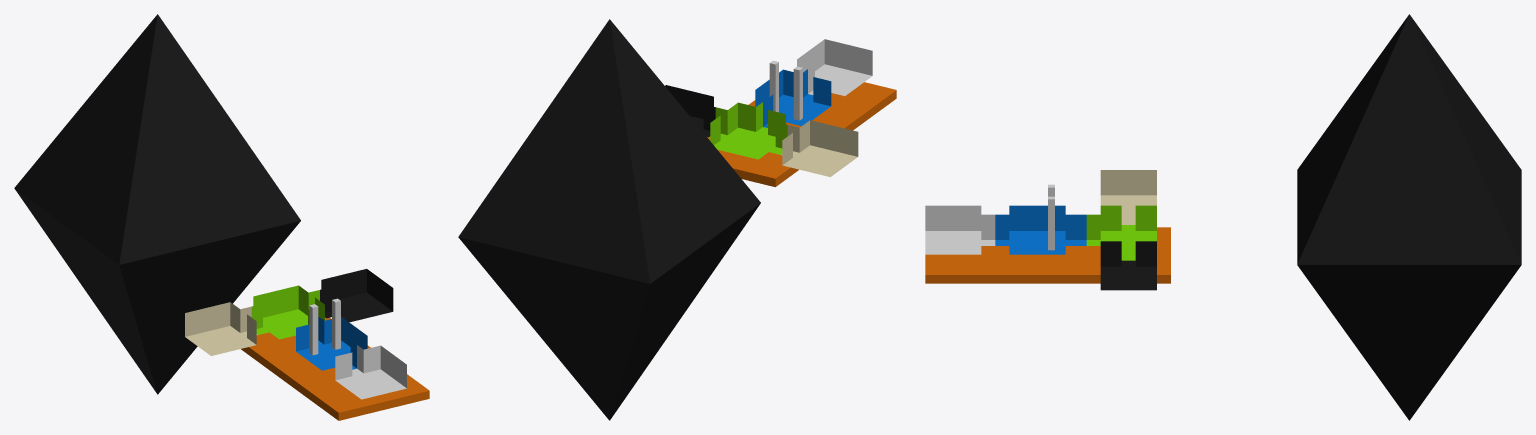
Rendered from sectors.glb.
The picture shows the model from 3 angles, left to right: view 1: azimuth 30°, elevation 25°; view 2: azimuth 150°, elevation 25°; view 3: azimuth 270°, elevation 25°; orthographic projection. The views are drawn at different scales.
Parts seen in each view (by area): view 1: Prism, Plane, TanRoom, WhiteRoom, BlackRoom, GreenRoom, BlueRoom, Pillar.001, Pillar; view 2: Prism, Plane, TanRoom, GreenRoom, WhiteRoom, BlueRoom, BlackRoom, Pillar.001, Pillar; view 3: Prism, Plane, BlueRoom, WhiteRoom, BlackRoom, GreenRoom, TanRoom.
Boxes of the visible parts, left/top/right/bottom form: Prism: left=14, top=14, right=300, bottom=394; Plane: left=241, top=317, right=429, bottom=420; TanRoom: left=185, top=302, right=257, bottom=355; WhiteRoom: left=335, top=345, right=406, bottom=399; BlackRoom: left=320, top=269, right=393, bottom=322; GreenRoom: left=251, top=285, right=325, bottom=339; BlueRoom: left=296, top=316, right=367, bottom=370; Pillar.001: left=309, top=304, right=318, bottom=355; Pillar: left=332, top=298, right=340, bottom=349; Prism: left=458, top=19, right=760, bottom=420; Plane: left=707, top=82, right=896, bottom=187; TanRoom: left=781, top=120, right=858, bottom=177; GreenRoom: left=709, top=102, right=787, bottom=159; WhiteRoom: left=797, top=39, right=872, bottom=95; BlueRoom: left=755, top=69, right=831, bottom=127; BlackRoom: left=665, top=85, right=715, bottom=137; Pillar.001: left=793, top=66, right=802, bottom=120; Pillar: left=769, top=60, right=778, bottom=112; Prism: left=1297, top=14, right=1521, bottom=420; Plane: left=925, top=227, right=1170, bottom=283; BlueRoom: left=995, top=205, right=1086, bottom=254; WhiteRoom: left=925, top=205, right=995, bottom=254; BlackRoom: left=1100, top=241, right=1156, bottom=290; GreenRoom: left=1086, top=205, right=1156, bottom=260; TanRoom: left=1100, top=170, right=1156, bottom=224.
Size of the model in its own units: 32 by 64 by 85.
